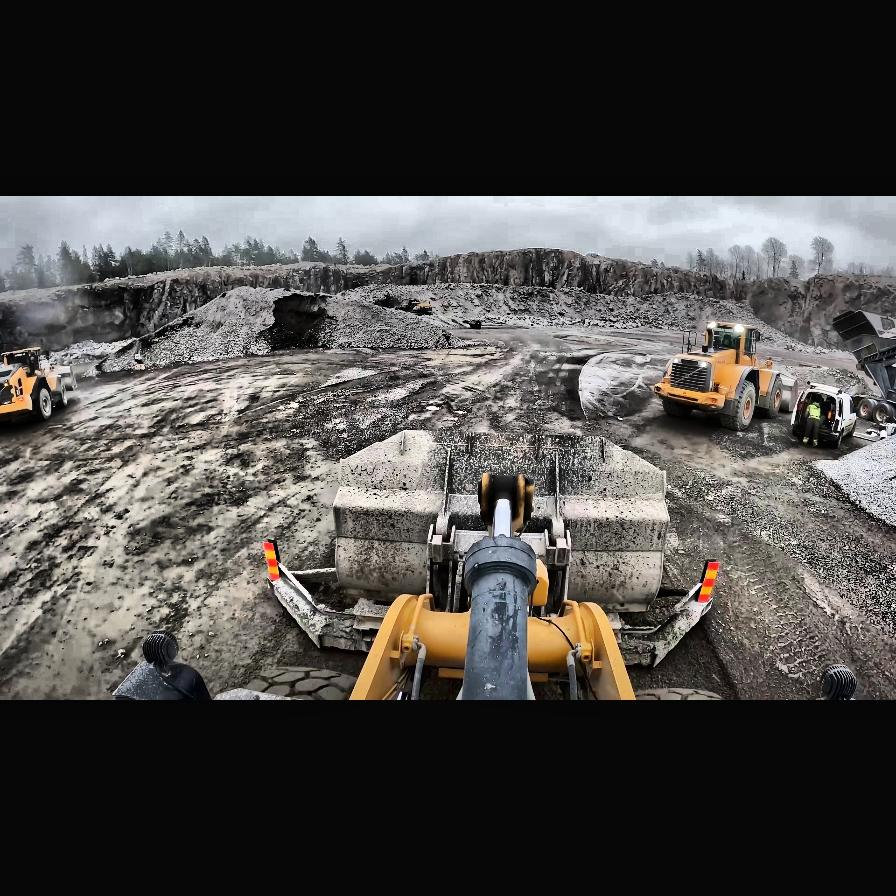anchor: (479, 472, 531, 528)
pile of gravel: (1, 285, 481, 375), (336, 278, 846, 356)
